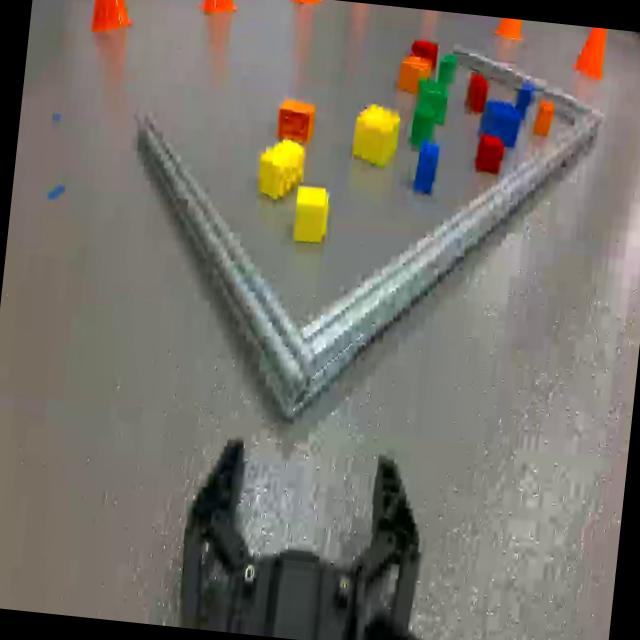block: (351, 100, 402, 171), (255, 134, 306, 203), (292, 184, 330, 244)
blue: (478, 97, 520, 149), (412, 140, 439, 194), (514, 80, 532, 120)
cone: (570, 25, 608, 83), (89, 0, 135, 33), (494, 16, 524, 42), (199, 0, 239, 19), (288, 0, 320, 7)
green: (413, 75, 449, 124), (408, 102, 436, 151), (438, 54, 457, 82)
metal barrier: (110, 11, 608, 447)
orange: (276, 96, 316, 143), (396, 54, 430, 96), (533, 99, 554, 137)
red goal: (474, 133, 505, 174), (464, 70, 488, 116), (410, 38, 438, 70)
